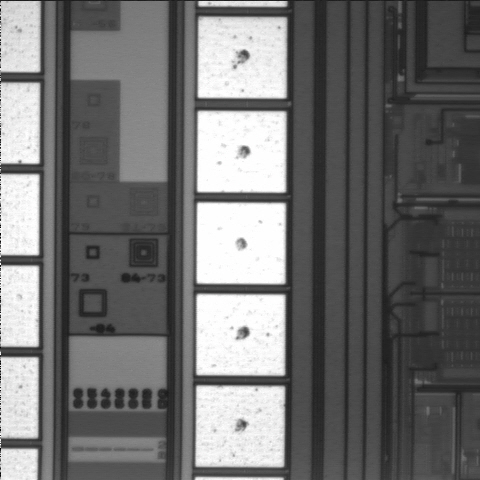pad: (196, 202, 286, 284), (197, 111, 286, 193), (196, 294, 285, 376), (198, 17, 287, 98), (196, 386, 285, 467)
